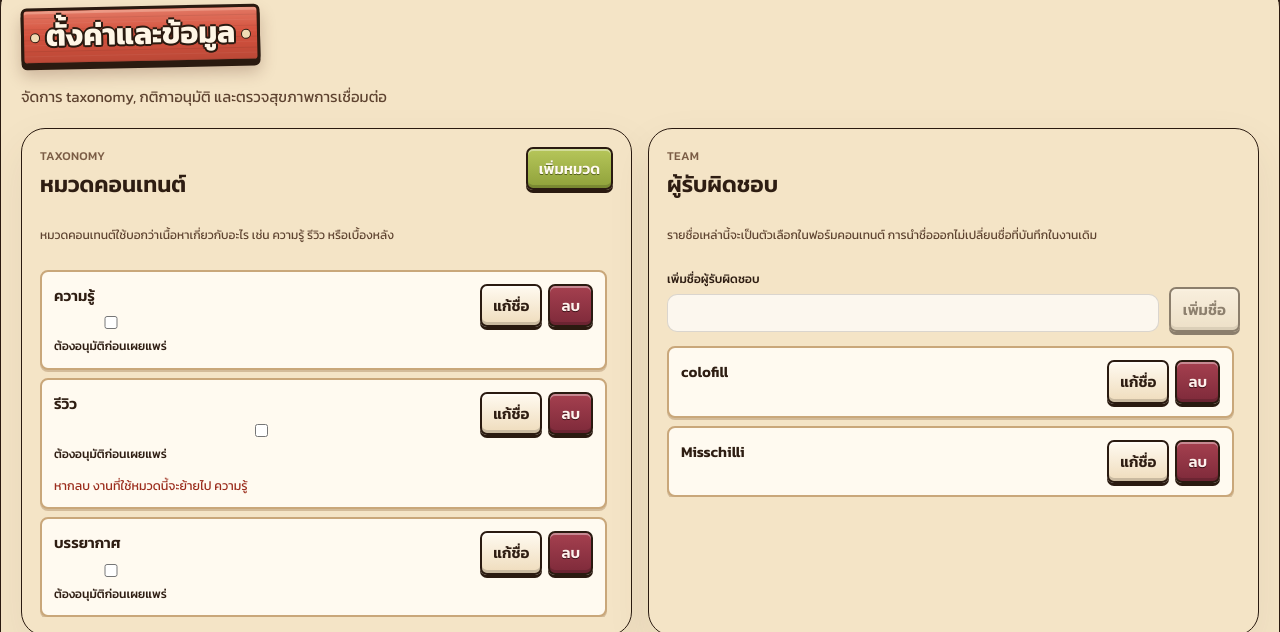
SettingsWorkspace › adds a format, saves a monthly goal, and removes a used category without orphaning work
Click the button with aria-label "ลบหมวด รีวิว" at (571, 414), box top-left (548, 392), bottom-right (593, 435)
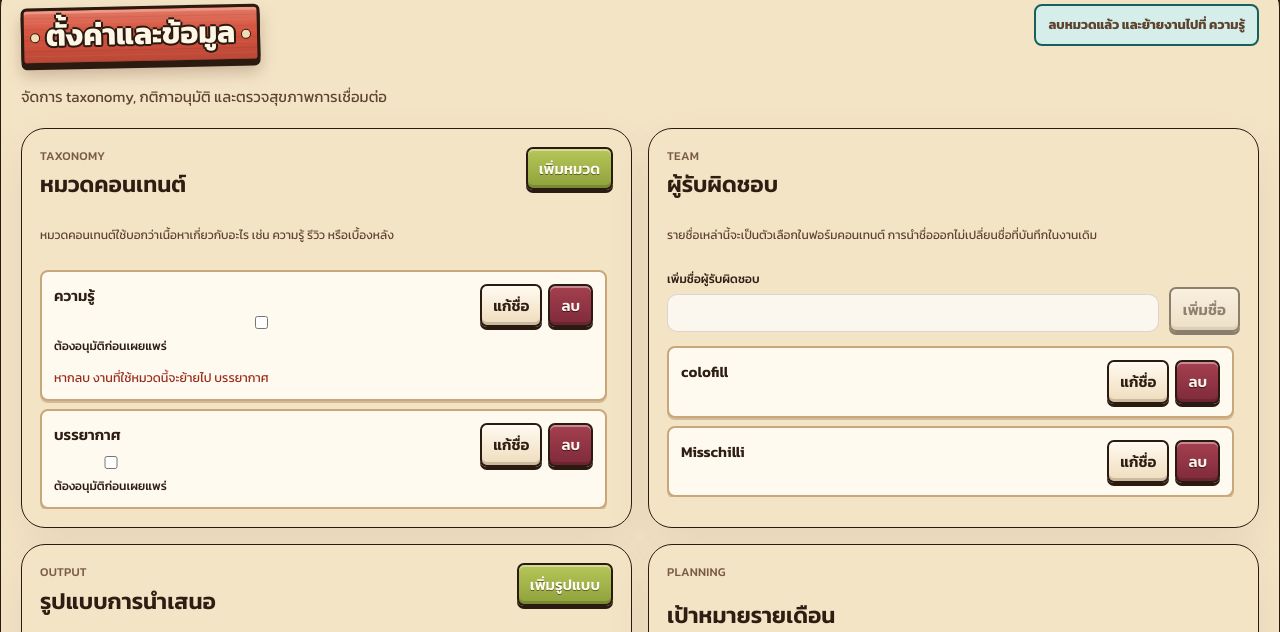
Check: the text "ลบหมวดแล้ว และย้ายงานไปที่ ความรู้" is shown, box top-left (1034, 4), bottom-right (1259, 46)
Click the button "เพิ่มรูปแบบ" at (565, 585), box top-left (517, 563), bottom-right (613, 607)
(page scrolled)
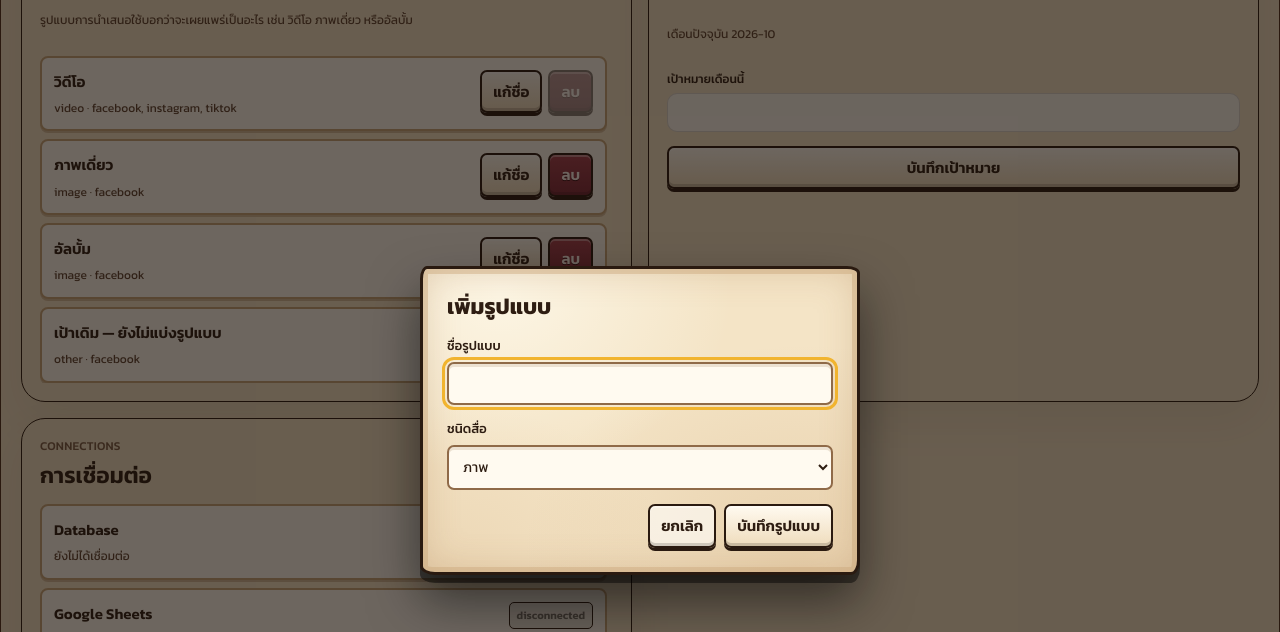
Type "Carousel" into the field labelled "ชื่อรูปแบบ" at (640, 383), box top-left (447, 362), bottom-right (833, 405)
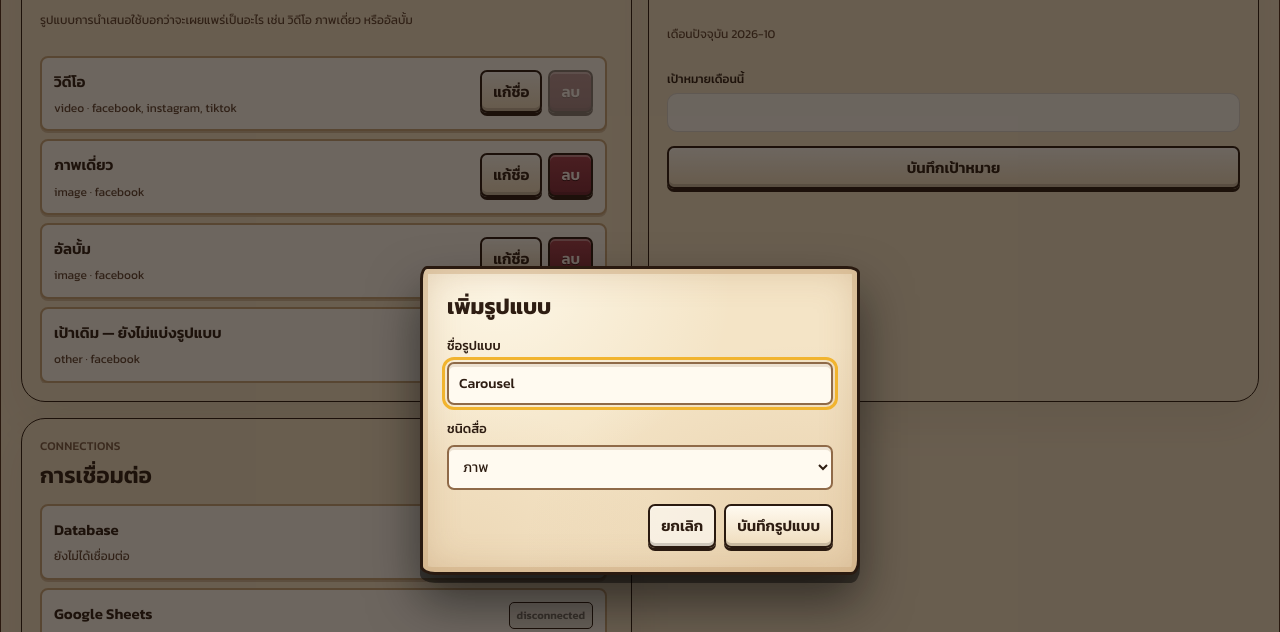
Select "ภาพ" in the dropdown labelled "ชนิดสื่อ" at (640, 468), box top-left (447, 446), bottom-right (833, 490)
Click the button "บันทึกรูปแบบ" at (779, 526), box top-left (724, 504), bottom-right (833, 548)
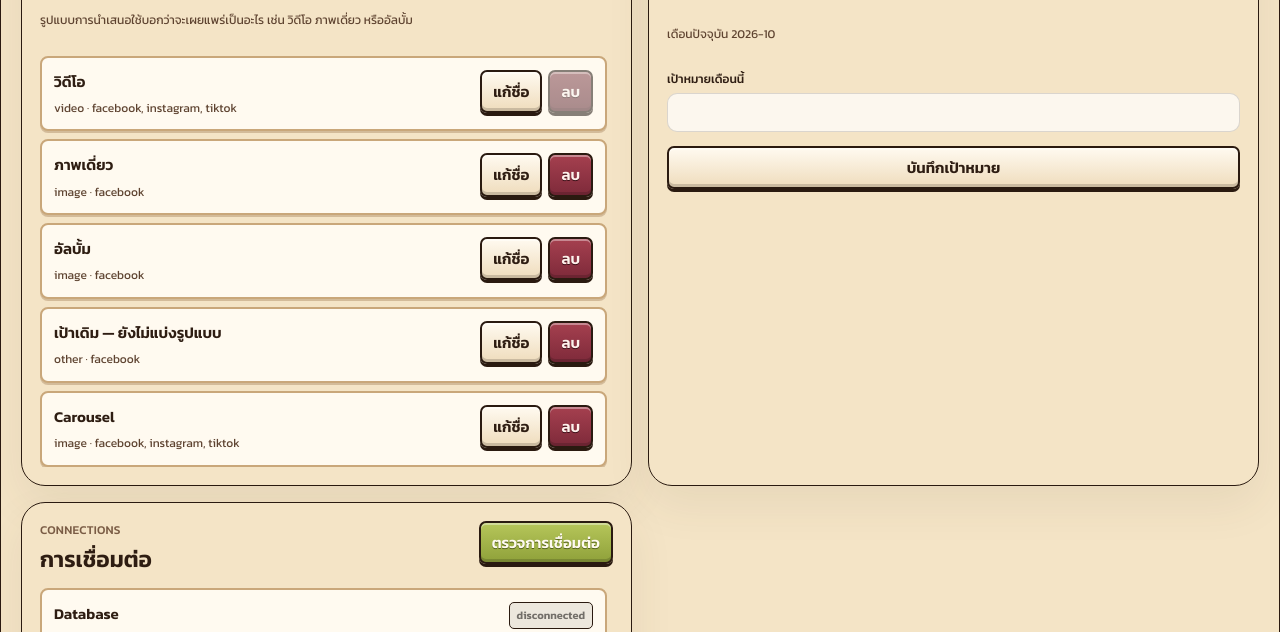
Check: the text "Carousel" is shown, box top-left (54, 405), bottom-right (114, 428)
Type "20" into the number field labelled "เป้าหมายเดือนนี้" at (954, 113), box top-left (667, 93), bottom-right (1240, 132)
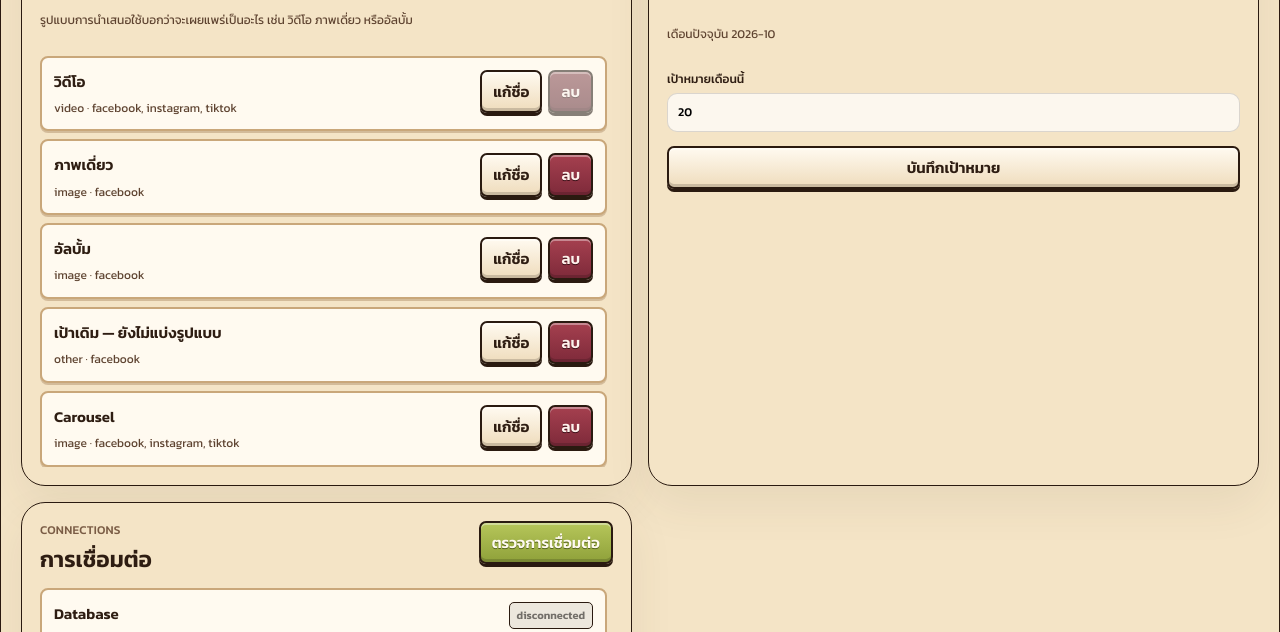
Click the button "บันทึกเป้าหมาย" at (954, 168), box top-left (667, 146), bottom-right (1240, 189)
(page scrolled)
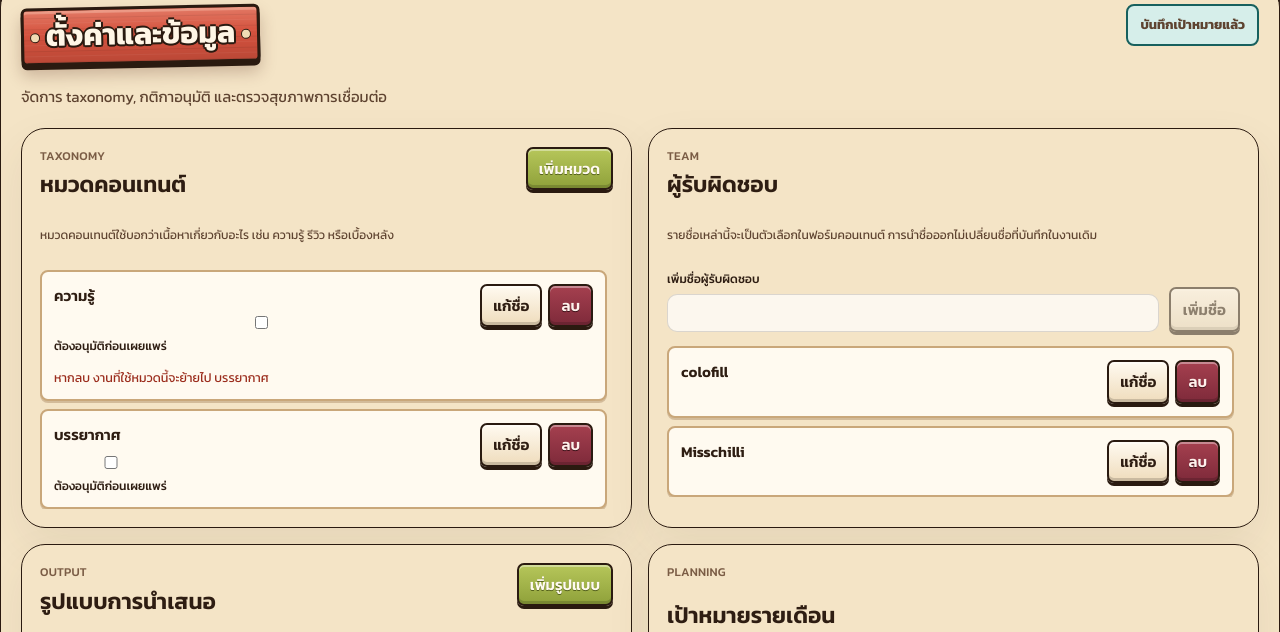
Check: the text "บันทึกเป้าหมายแล้ว" is shown, box top-left (1126, 4), bottom-right (1259, 46)
